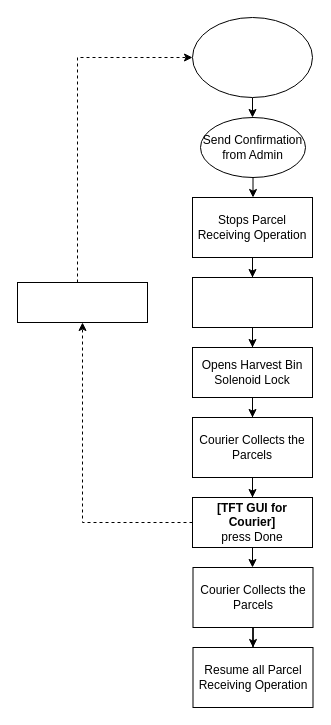
This 331x725 diagram has some shape labels left out. The shapes that lost their labels are listed below. From the top down, each one's box as (x1, y1, x2, y2) in pixels, then its label:
(192, 16, 312, 98): WEB
(16, 282, 148, 322): Send done harvesting to web
(192, 276, 312, 328): [TFT GUI for Courier] ("Collecting Parcels")
